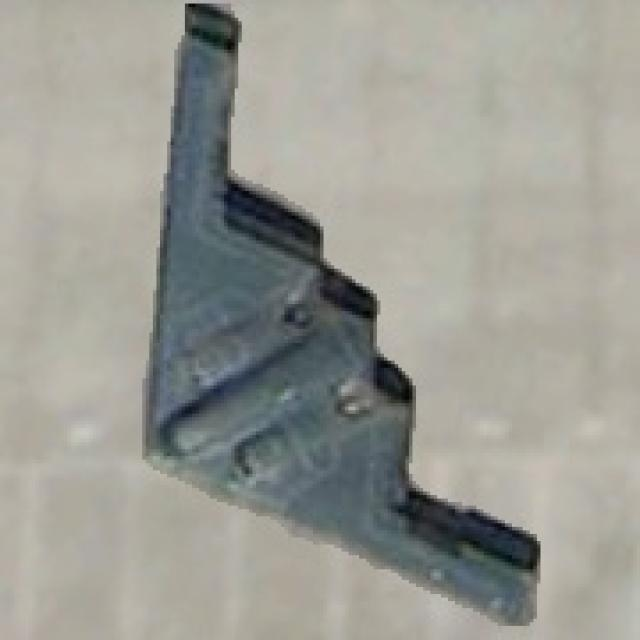B-2_TopDown: (131, 0, 544, 629)
